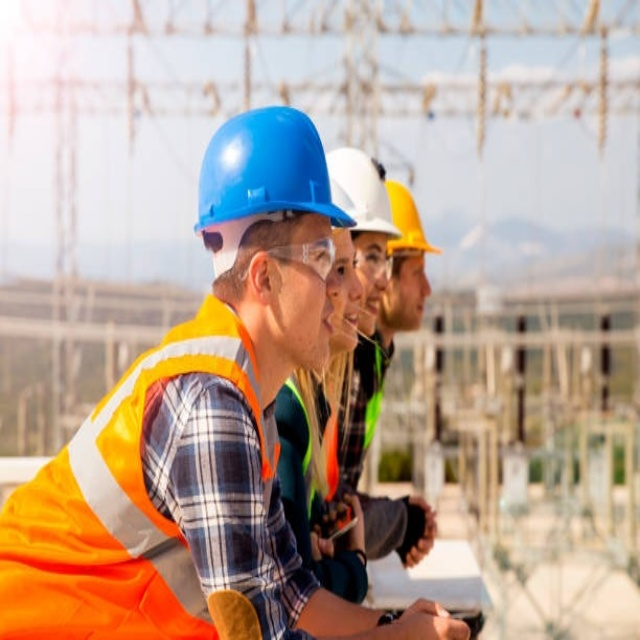Gafas: (239, 234, 335, 284), (358, 251, 394, 273)
Sin_gafas: (336, 249, 359, 281), (401, 260, 432, 282)
Sin_guantes: (396, 587, 473, 640), (401, 489, 440, 569)
Sin_mascara: (305, 296, 336, 367), (335, 296, 358, 350), (360, 285, 387, 329), (403, 289, 433, 323)
